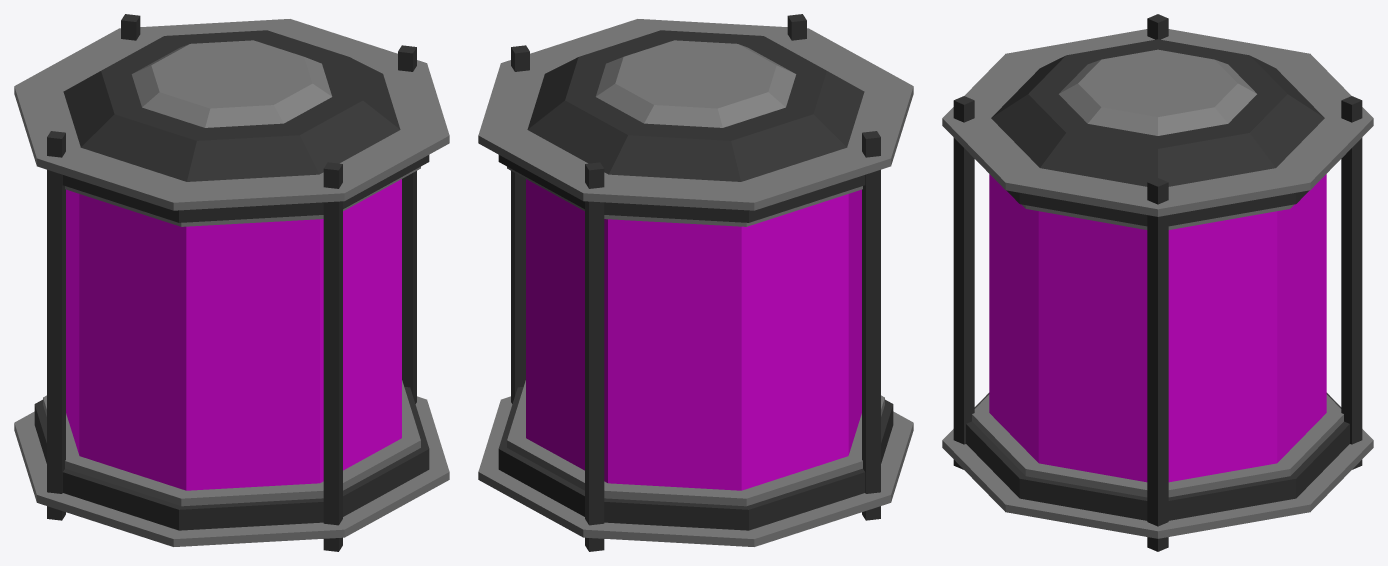
Rendered from EnergyContainer.fbx.
3 views of the same model, side by side, from view 1: azimuth 30°, elevation 25°; view 2: azimuth 150°, elevation 25°; view 3: azimuth 270°, elevation 25° (orthographic). The views are drawn at different scales.
Visible parts, largest first — view 1: GenericContainer; view 2: GenericContainer; view 3: GenericContainer.
Boxes of the visible parts, bbox=[...] form: GenericContainer: bbox=[14, 14, 449, 551]; GenericContainer: bbox=[478, 14, 913, 551]; GenericContainer: bbox=[942, 14, 1373, 551].
Bounding box in the file's own units: 3.41 × 3.48 × 3.41.
